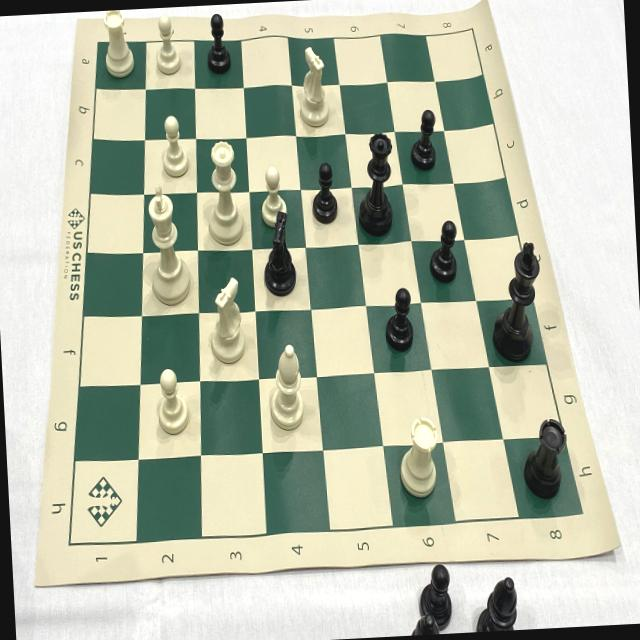black-king: (483, 240, 548, 368)
black-knight: (253, 210, 300, 300)
black-pawn: (379, 281, 416, 357), (426, 218, 462, 288), (202, 8, 234, 82), (407, 105, 440, 174), (309, 160, 340, 232)
black-queen: (353, 126, 398, 242)
black-rook: (520, 412, 572, 502)
white-bishop: (263, 338, 308, 436)
white-king: (140, 180, 196, 309)
white-knight: (208, 270, 249, 368), (292, 38, 332, 132)
white-pawn: (152, 362, 194, 438), (156, 112, 192, 180), (254, 164, 289, 232), (150, 13, 184, 77)
white-queen: (204, 135, 248, 248)
white-rook: (393, 408, 445, 505), (98, 9, 138, 81)
